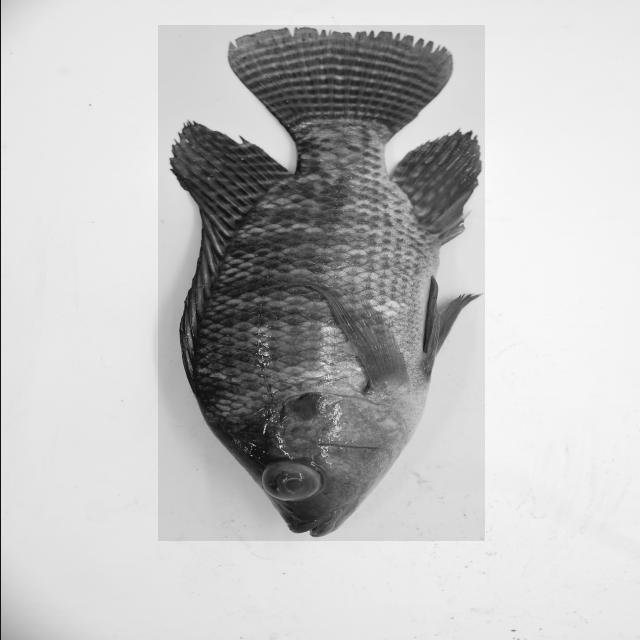streptococcus Disease: (157, 25, 484, 541)
